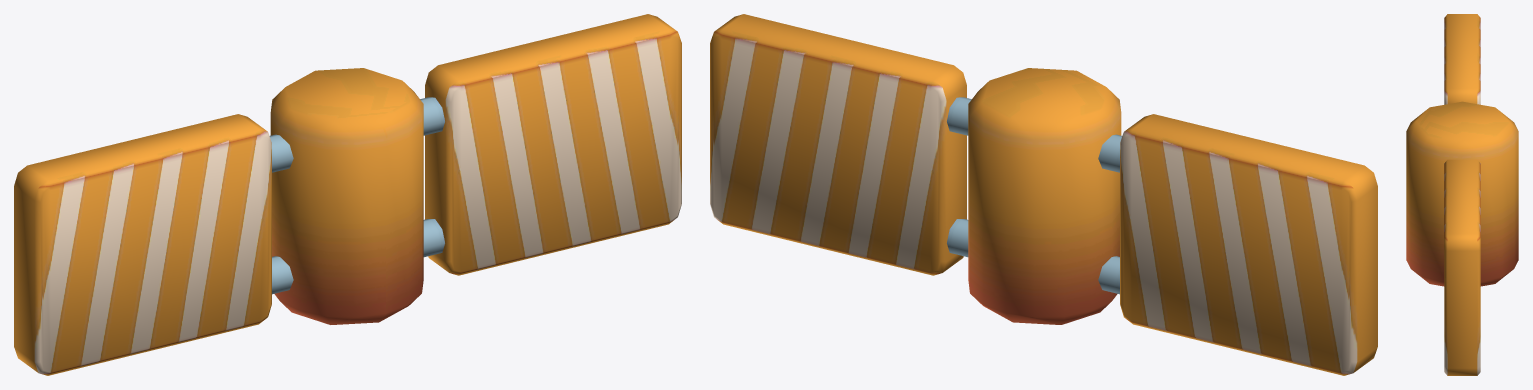
Rendered from alerones2.fbx.
3 renders of one model, left to right at view 1: azimuth 30°, elevation 25°; view 2: azimuth 150°, elevation 25°; view 3: azimuth 270°, elevation 25°, orthographic. The views are drawn at different scales.
Parts seen in each view (by area): view 1: PaddleSmallv2b_SpinnyHammer3_0; view 2: PaddleSmallv2b_SpinnyHammer3_0; view 3: PaddleSmallv2b_SpinnyHammer3_0.
Boxes of the visible parts, bbox=[...] form: PaddleSmallv2b_SpinnyHammer3_0: bbox=[14, 14, 681, 375]; PaddleSmallv2b_SpinnyHammer3_0: bbox=[710, 14, 1377, 375]; PaddleSmallv2b_SpinnyHammer3_0: bbox=[1406, 14, 1518, 375].
Size of the model in its own units: 432 by 131 by 89.72.
1 material, 1 textured.
